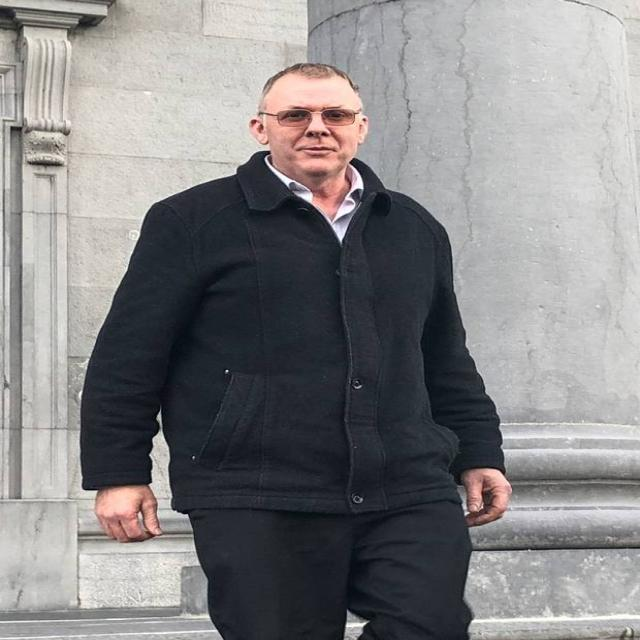human: (80, 66, 522, 640)
